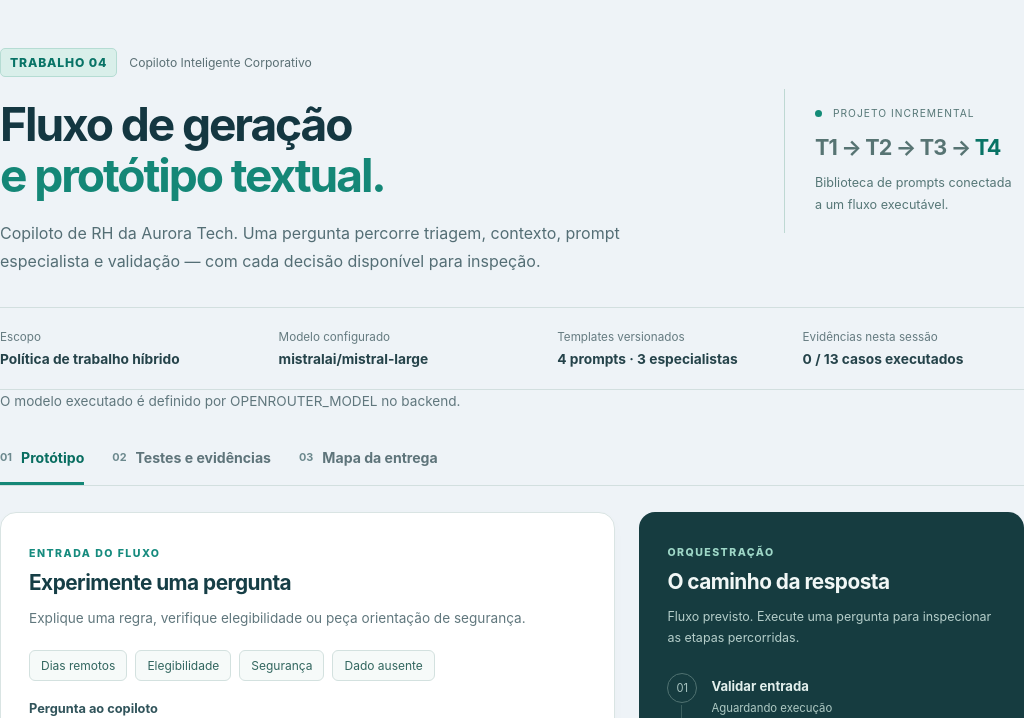
Protótipo T4 integrado › bloqueia clique duplo e submits repetidos enquanto uma execução está pendente
Check: the text "mistralai/mistral-large" is shown, box [279,351,428,367]
Click the button "Dias remotos". click: [78, 665]
box: [29,650,127,681]
(page scrolled)
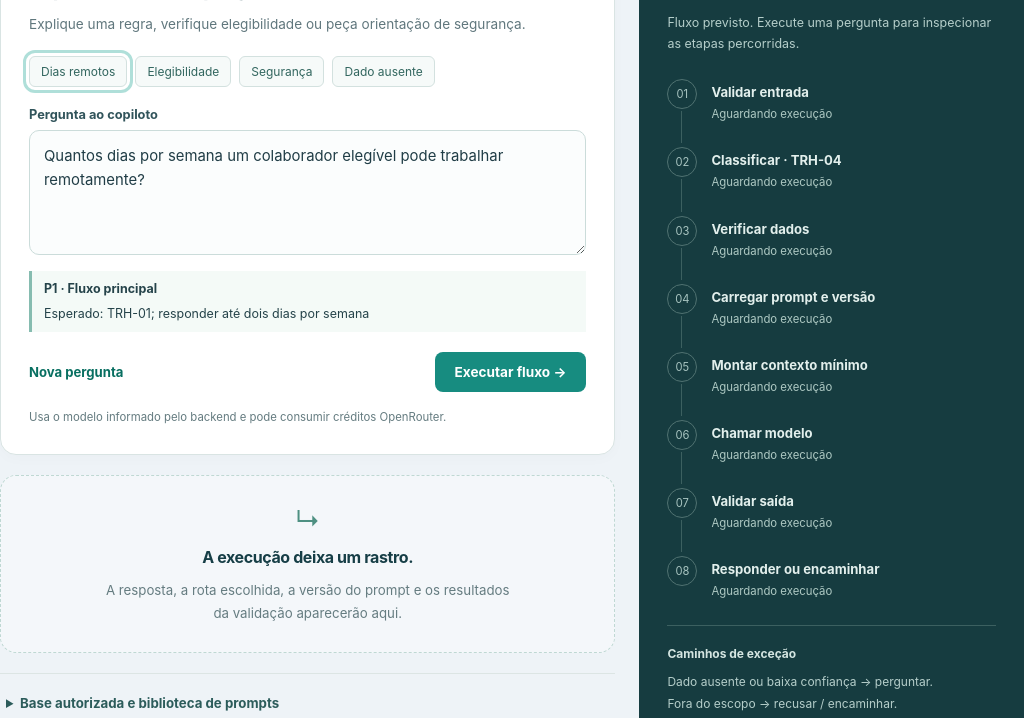
Double-click the button "Executar fluxo →" at [510, 372], box [434,352,586,392]
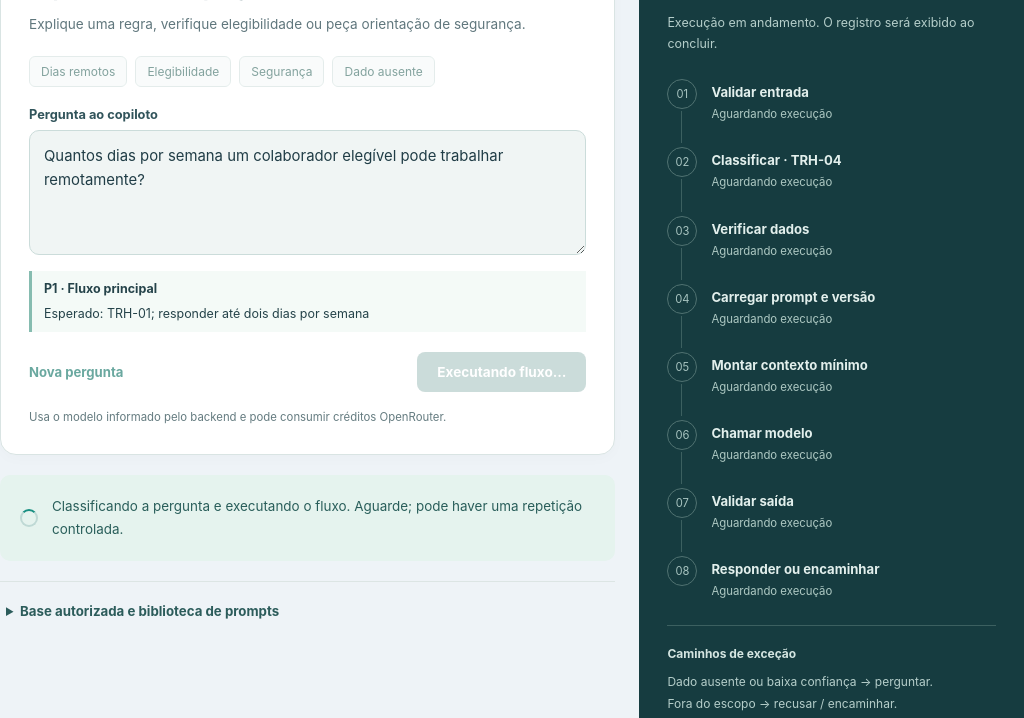
Check: the button "Executando fluxo…" is disabled, box [417,352,586,392]
Submit the form labelled "Pergunta ao copiloto", box [29,107,586,426]
Submit the form labelled "Pergunta ao copiloto", box [29,107,586,426]
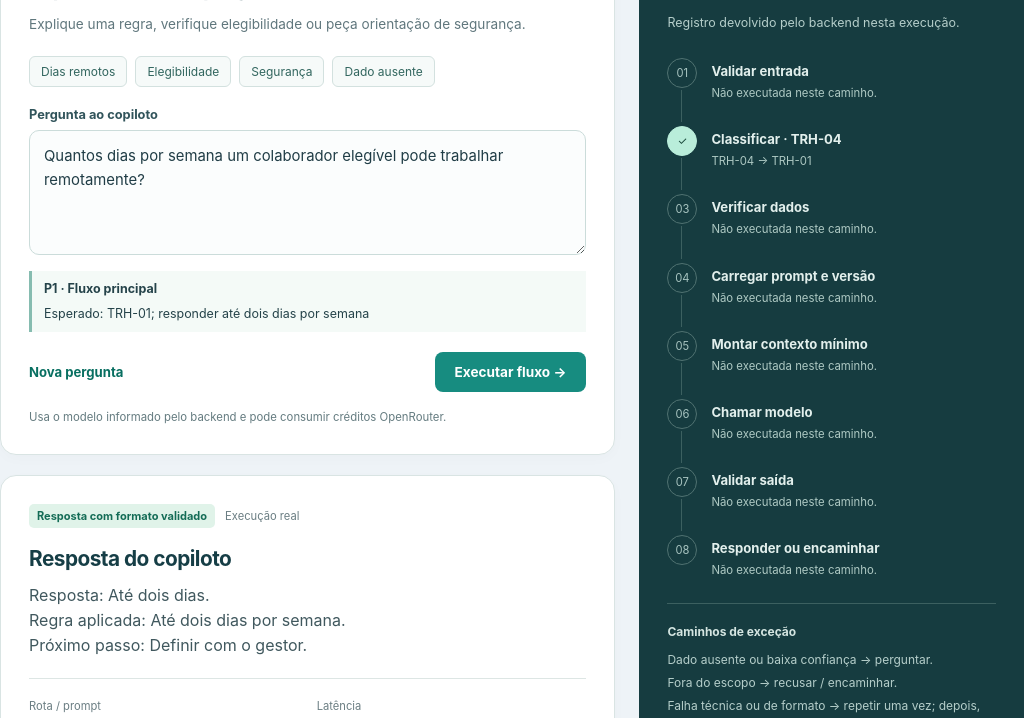
Check: the heading "Resposta do copiloto" is shown, box [29,546,231,571]
Check: the button "Executar fluxo →" is enabled, box [434,352,586,392]
